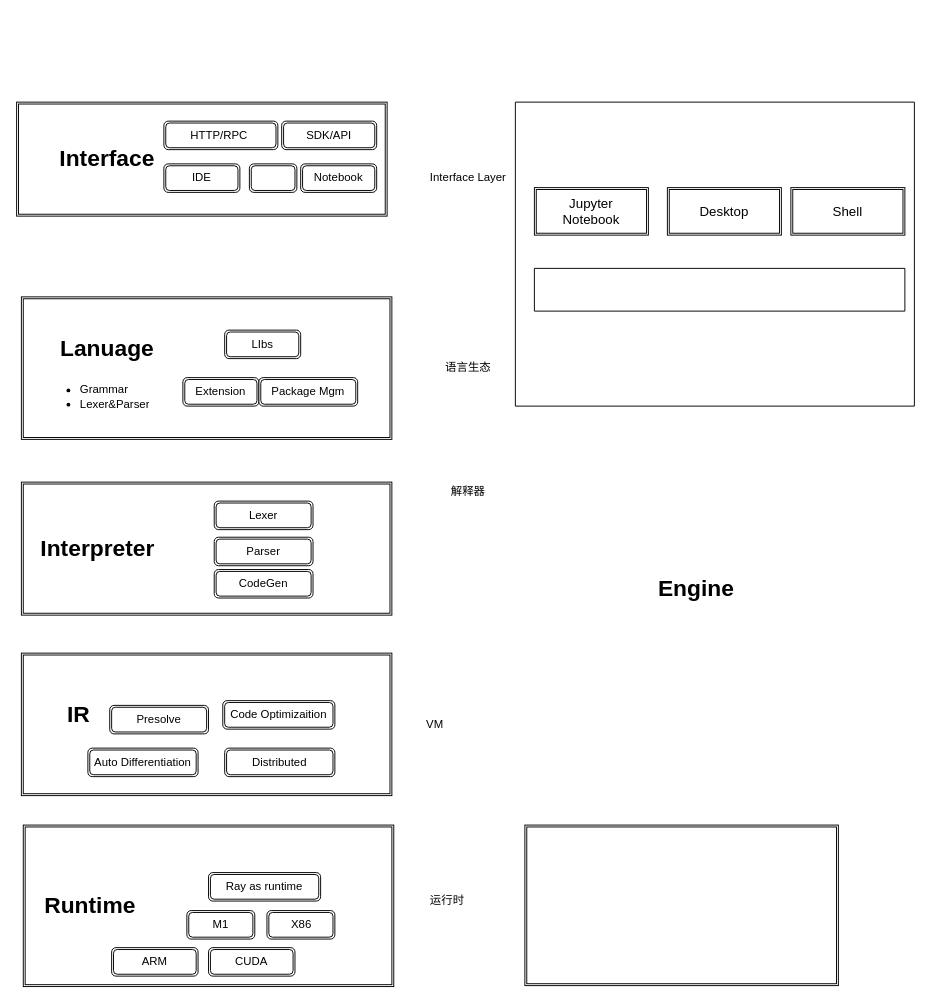
This 931x1003 diagram has some shape labels left out. The shapes that lost their labels are listed below. From the top down, each one's centre as x and y in pixels, then its label:
(272,177): CLI
(719,289): Router
(681,905): Solver Interface
